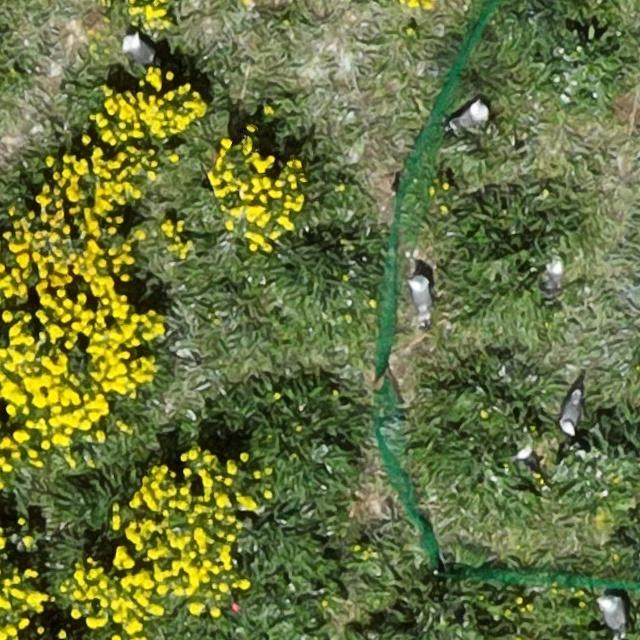umineko: (124, 38, 154, 66), (562, 390, 582, 431), (454, 104, 487, 128), (410, 278, 430, 317), (602, 599, 625, 631), (546, 254, 564, 288)
